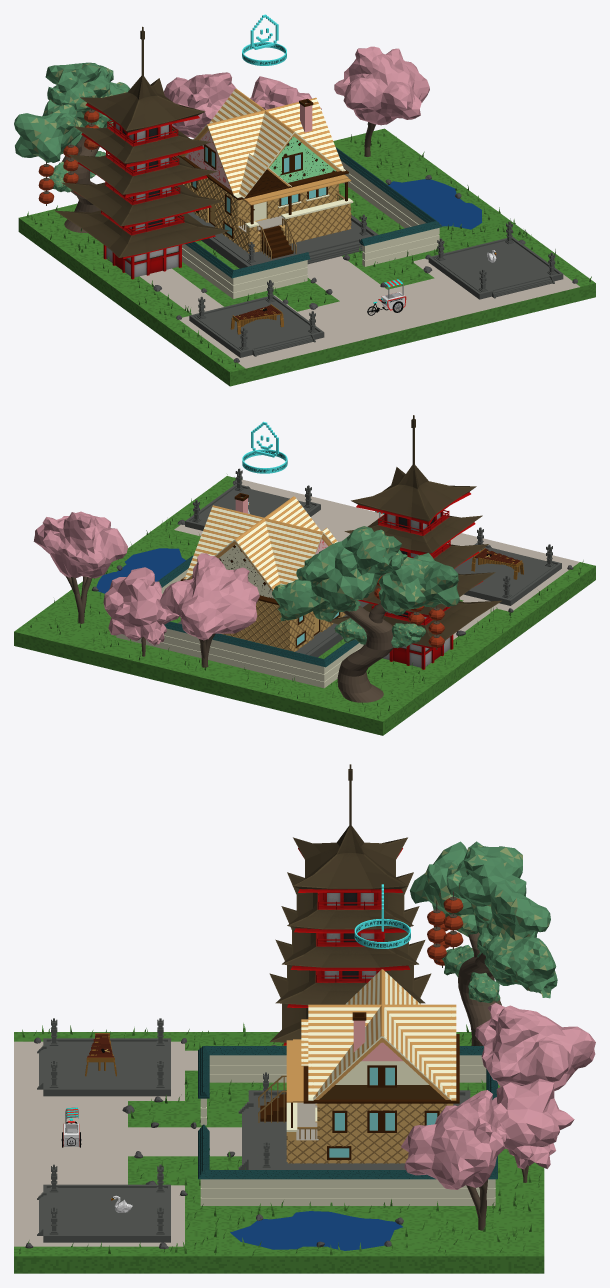
3 views of the same model, one above another, from view 1: azimuth 30°, elevation 25°; view 2: azimuth 150°, elevation 25°; view 3: azimuth 270°, elevation 25° (orthographic). The views are drawn at different scales.
Parts seen in each view (by area): view 1: Cube.005, Cube.1102, TYPE_PREMIUM, OBJRANDOM_MARIMBA, VEHICLES_SNOWBAL_BIKE; view 2: Cube.005, Cube.1102, TYPE_PREMIUM, OBJRANDOM_MARIMBA; view 3: Cube.005, Cube.1102, TYPE_PREMIUM, OBJRANDOM_MARIMBA.
Part boxes in pixels (<box>): Cube.005: <box>14,26,595,386</box>; Cube.1102: <box>178,88,353,259</box>; TYPE_PREMIUM: <box>242,14,286,65</box>; OBJRANDOM_MARIMBA: <box>230,304,283,334</box>; VEHICLES_SNOWBAL_BIKE: <box>367,279,406,315</box>; Cube.005: <box>14,415,595,735</box>; Cube.1102: <box>180,493,345,651</box>; TYPE_PREMIUM: <box>242,421,287,473</box>; OBJRANDOM_MARIMBA: <box>471,548,523,579</box>; Cube.005: <box>14,764,595,1273</box>; Cube.1102: <box>258,969,459,1163</box>; TYPE_PREMIUM: <box>354,884,410,948</box>; OBJRANDOM_MARIMBA: <box>85,1033,116,1076</box>.
Size of the model in its own units: 4528 by 2791 by 4389.
Materials: 40 (7 with a texture image).
